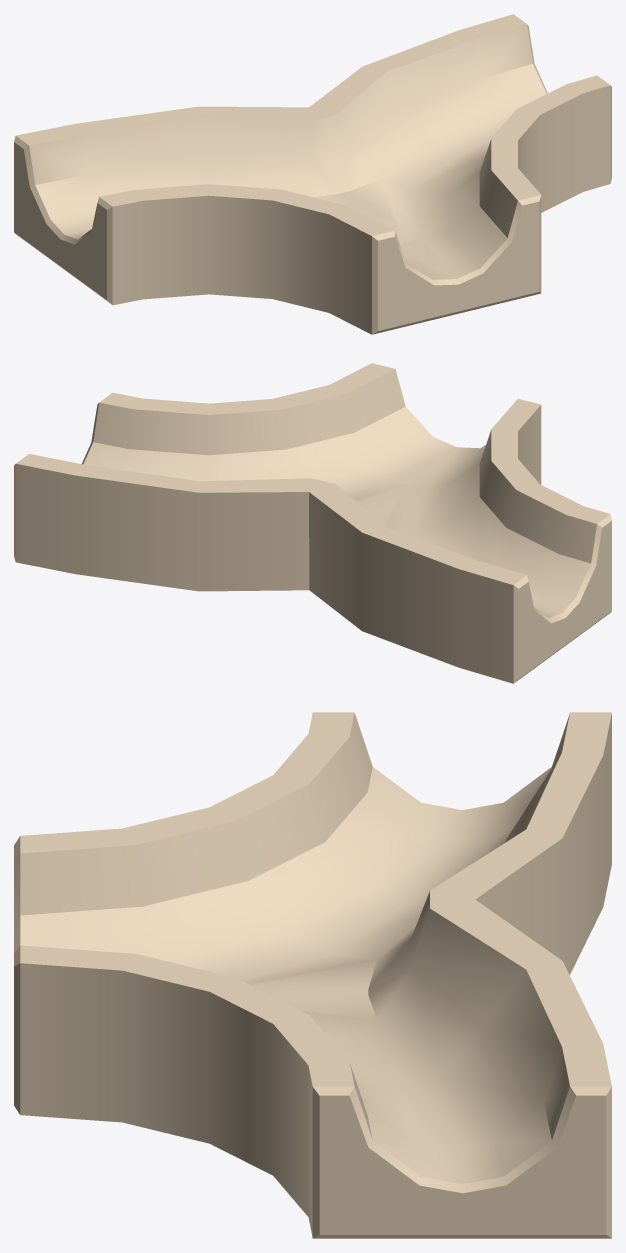
The model's file is track_junction_a06.glb.
3 views of the same model, one above another, from view 1: azimuth 30°, elevation 25°; view 2: azimuth 150°, elevation 25°; view 3: azimuth 270°, elevation 25° (orthographic). The views are drawn at different scales.
Visible parts, largest first — view 1: Junction; view 2: Junction; view 3: Junction.
Boxes of the visible parts, left/top/right/bottom form: Junction: left=14, top=14, right=611, bottom=334; Junction: left=14, top=363, right=611, bottom=683; Junction: left=14, top=712, right=611, bottom=1238.
Bounding box in the file's own units: 6 × 1.12 × 4.
